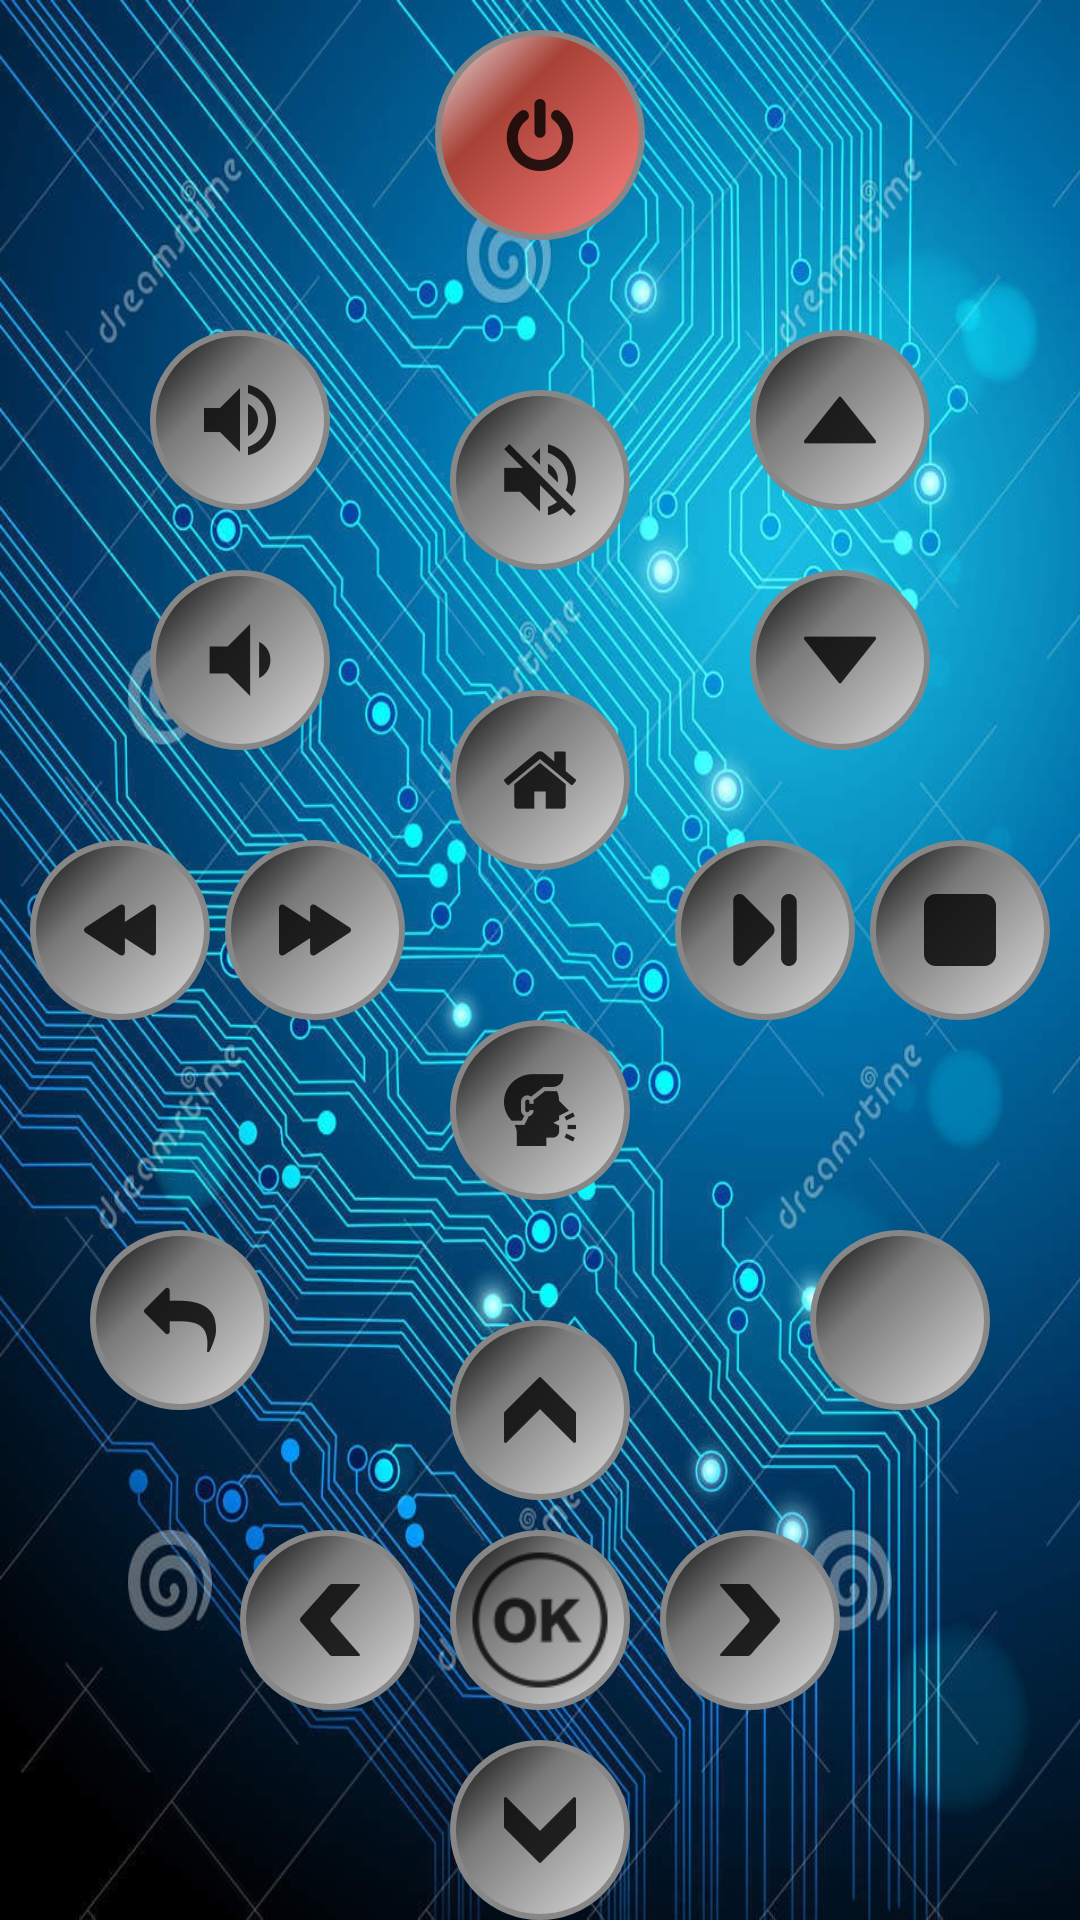

Icons on this 1080px×1920px Android screen, each with the point to tap as (x,y):
back: (180,1320)
backward: (120,930)
down: (540,1830)
down triangle: (840,660)
forward: (315,930)
home: (540,780)
left: (330,1620)
mute: (540,480)
play pause: (765,930)
power: (540,135)
right: (750,1620)
stop: (960,930)
up triangle: (840,420)
volume down: (240,660)
volume up: (240,420)
